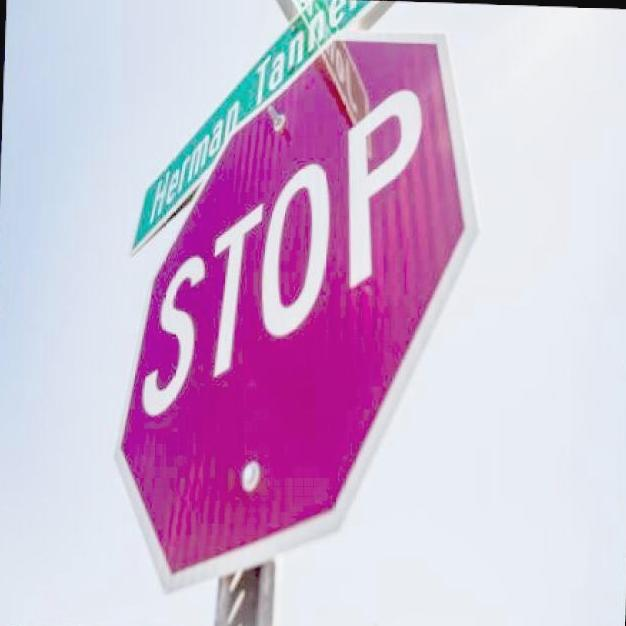stop_sign: (106, 23, 485, 606)
